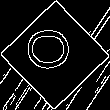O_E: (29, 33, 81, 77)
